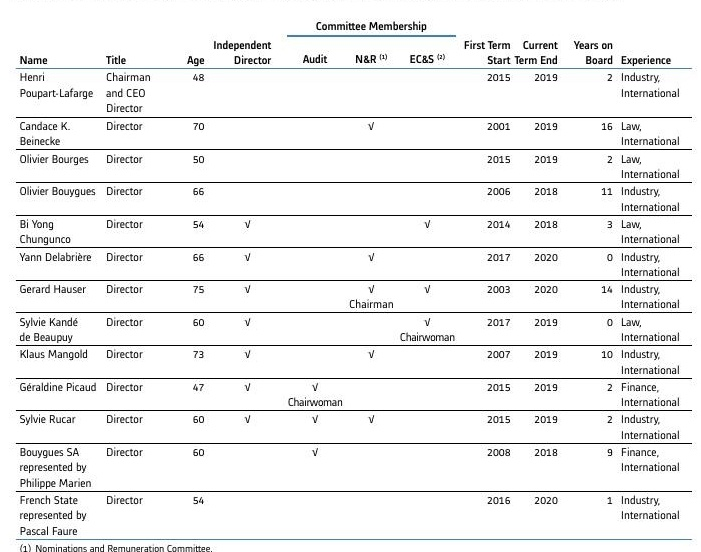table: (0, 0, 701, 552)
